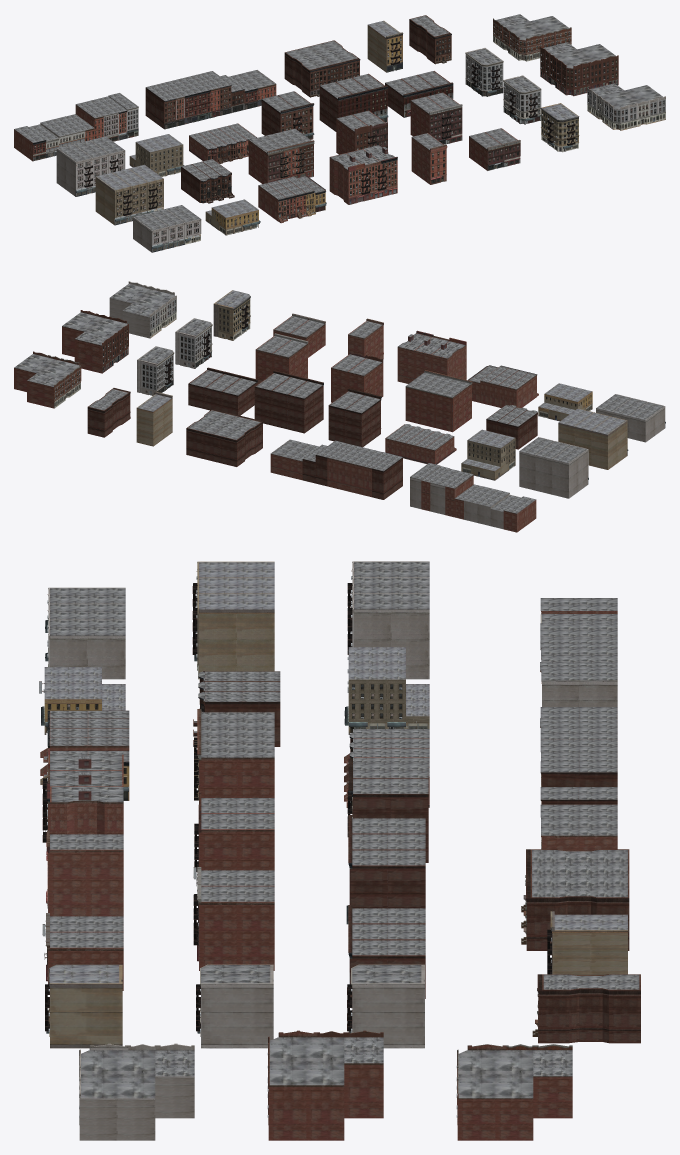
File: scene.lite.glb
3 renders of one model, top to bottom at view 1: azimuth 30°, elevation 25°; view 2: azimuth 150°, elevation 25°; view 3: azimuth 270°, elevation 25°, orthographic. The views are drawn at different scales.
Parts seen in each view (by area): view 1: Brownstone_FlatFacade_9_C, Brownstone_FlatFacade_9, Brownstone_Harlem_1_B, Brownstone_Lowrise_1_B_Brownstone_Facade_Flr_3_0, Brownstone_FlatFacadeComplex_1_Brownstone_Facade_Flr_2_0, Brownstone_FlatFacade_2_Brownstone_Facade_Flr_3_0, Brownstone_FlatFacade_1_Brownstone_Facade_Flr_2_0, Brownstone_FlatFacade_6_Brownstone_Facade_Flr_1_0, Brownstone_FlatFacade_9_B, Brownstone_FlatFacadeComplex_2_Brownstone_Facade_Flr_4_0, Brownstone_Lowrise_1_C_Brownstone_Facade_Flr_4_0, Brownstone_Lowrise_1_Brownstone_Facade_Flr_3_0 (+25 smaller); view 2: Brownstone_FlatFacade_6_Brownstone_Facade_Flr_1_0, Brownstone_FlatFacade_9, Brownstone_FlatFacadeComplex_1_Brownstone_Facade_Flr_2_0, Brownstone_Harlem_1_B, Brownstone_FlatFacade_2_Brownstone_Facade_Flr_3_0, Brownstone_Lowrise_1_B_Brownstone_Facade_Flr_3_0, Brownstone_FlatFacade_9_C, Brownstone_FlatFacadeComplex_2_Brownstone_Facade_Flr_4_0, Brownstone_FlatFacade_1_Brownstone_Facade_Flr_2_0, Brownstone_Lowrise_1_Brownstone_Facade_Flr_3_0, Brownstone_Lowrise_1_C_Brownstone_Facade_Flr_4_0, Brownstone_FlatFacade_3_Brownstone_Facade_Flr_1_0 (+18 smaller); view 3: Brownstone_Lowrise_1_B_Brownstone_Facade_Flr_3_0, Brownstone_Lowrise_1_C_Brownstone_Facade_Flr_4_0, Brownstone_Lowrise_1_Brownstone_Facade_Flr_3_0, Brownstone_FlatFacade_9_C, Brownstone_Harlem_1_B, Brownstone_FlatFacade_9, Brownstone_FlatFacade_7_Brownstone_Facade_Flr_3_Dif_0, Brownstone_Harlem_1, Brownstone_FlatFacade_6_Brownstone_Facade_Flr_1_0, Brownstone_FlatFacadeComplex_1_Brownstone_Facade_Flr_2_0, Brownstone_FlatFacade_9_B, Brownstone_FlatFacade_2_Brownstone_Facade_Flr_3_0 (+18 smaller).
Part boxes in pixels (x1,y1,x2,y2): Brownstone_FlatFacade_9_C: (95, 164, 163, 225); Brownstone_FlatFacade_9: (56, 136, 125, 196); Brownstone_Harlem_1_B: (284, 40, 360, 97); Brownstone_Lowrise_1_B_Brownstone_Facade_Flr_3_0: (540, 42, 618, 89); Brownstone_FlatFacadeComplex_1_Brownstone_Facade_Flr_2_0: (157, 70, 276, 119); Brownstone_FlatFacade_2_Brownstone_Facade_Flr_3_0: (248, 128, 314, 183); Brownstone_FlatFacade_1_Brownstone_Facade_Flr_2_0: (329, 145, 397, 204); Brownstone_FlatFacade_6_Brownstone_Facade_Flr_1_0: (319, 73, 387, 131); Brownstone_FlatFacade_9_B: (133, 205, 201, 252); Brownstone_FlatFacadeComplex_2_Brownstone_Facade_Flr_4_0: (29, 93, 138, 153); Brownstone_Lowrise_1_C_Brownstone_Facade_Flr_4_0: (587, 83, 665, 123); Brownstone_Lowrise_1_Brownstone_Facade_Flr_3_0: (493, 14, 571, 54); Brownstone_FlatFacade_6_Brownstone_Facade_Flr_1_0: (254, 370, 323, 433); Brownstone_FlatFacade_9: (519, 437, 588, 498); Brownstone_FlatFacadeComplex_1_Brownstone_Facade_Flr_2_0: (270, 439, 391, 497); Brownstone_Harlem_1_B: (186, 409, 262, 466); Brownstone_FlatFacade_2_Brownstone_Facade_Flr_3_0: (405, 370, 472, 432); Brownstone_Lowrise_1_B_Brownstone_Facade_Flr_3_0: (62, 310, 128, 373); Brownstone_FlatFacade_9_C: (558, 408, 628, 469); Brownstone_FlatFacadeComplex_2_Brownstone_Facade_Flr_4_0: (410, 463, 520, 529); Brownstone_FlatFacade_1_Brownstone_Facade_Flr_2_0: (397, 330, 466, 383); Brownstone_Lowrise_1_Brownstone_Facade_Flr_3_0: (14, 351, 81, 408); Brownstone_Lowrise_1_C_Brownstone_Facade_Flr_4_0: (109, 281, 176, 338); Brownstone_FlatFacade_3_Brownstone_Facade_Flr_1_0: (328, 388, 381, 447); Brownstone_Lowrise_1_B_Brownstone_Facade_Flr_3_0: (268, 1030, 383, 1140); Brownstone_Lowrise_1_C_Brownstone_Facade_Flr_4_0: (79, 1043, 194, 1140); Brownstone_Lowrise_1_Brownstone_Facade_Flr_3_0: (457, 1044, 572, 1140); Brownstone_FlatFacade_9_C: (192, 561, 274, 679); Brownstone_Harlem_1_B: (521, 849, 629, 950); Brownstone_FlatFacade_9: (347, 561, 429, 679); Brownstone_FlatFacade_7_Brownstone_Facade_Flr_3_Dif_0: (197, 867, 274, 970); Brownstone_Harlem_1: (532, 974, 640, 1043); Brownstone_FlatFacade_6_Brownstone_Facade_Flr_1_0: (348, 815, 425, 908); Brownstone_FlatFacadeComplex_1_Brownstone_Facade_Flr_2_0: (540, 718, 617, 850); Brownstone_FlatFacade_9_B: (45, 587, 125, 679); Brownstone_FlatFacade_2_Brownstone_Facade_Flr_3_0: (197, 709, 274, 797).
Size of the model in its own units: 319 by 22.79 by 159.
14 materials, 14 textured.
